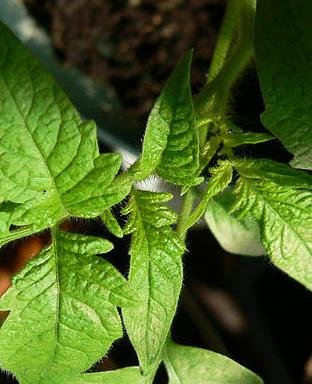Tomato leaf: (0, 3, 116, 243), (0, 221, 143, 384), (221, 149, 312, 315), (113, 184, 188, 383), (132, 48, 202, 189)
